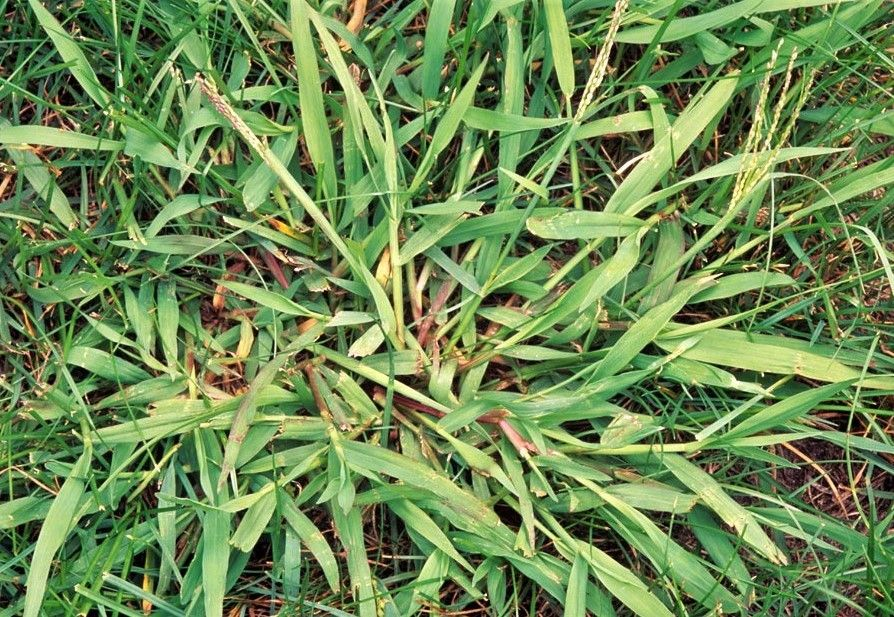crabgrass: (75, 72, 770, 587)
